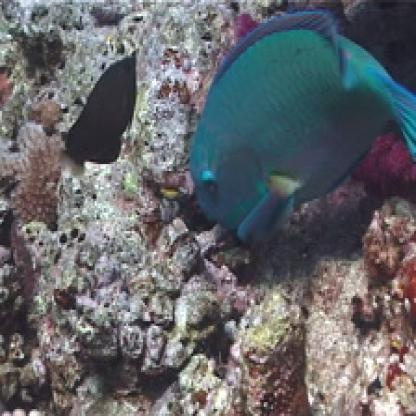Scaridae -Parrotfishes-: (183, 11, 413, 249)
